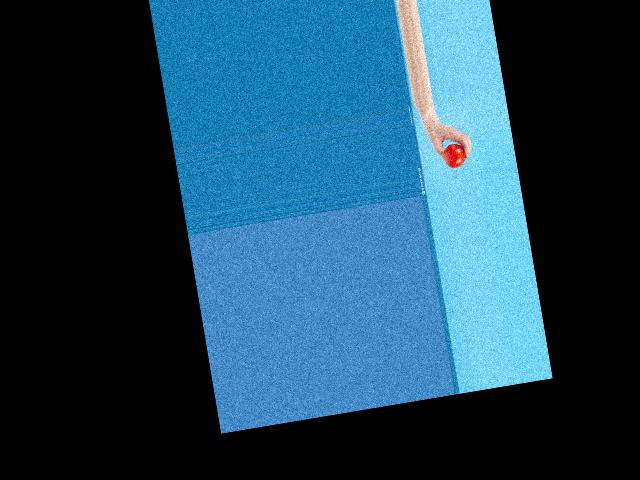tomato: (442, 142, 467, 169)
